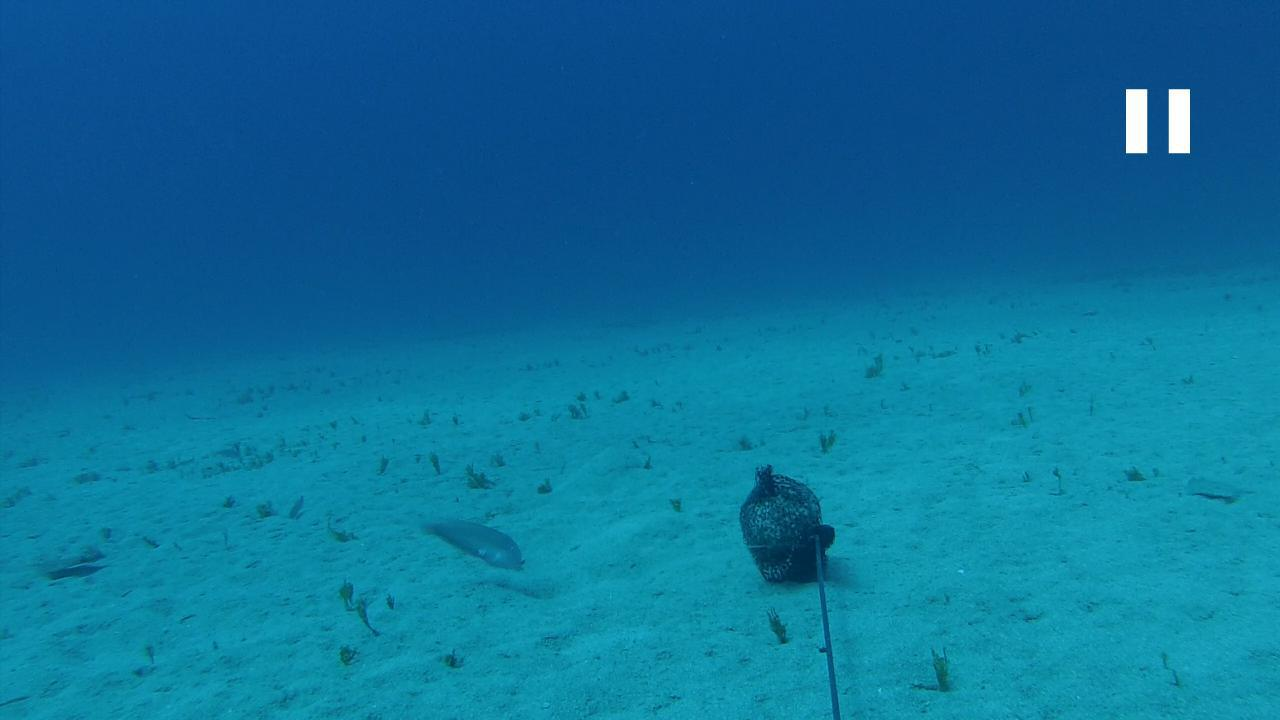bothus: (37, 541, 108, 580), (1182, 474, 1244, 504)
raor: (412, 514, 528, 579)
